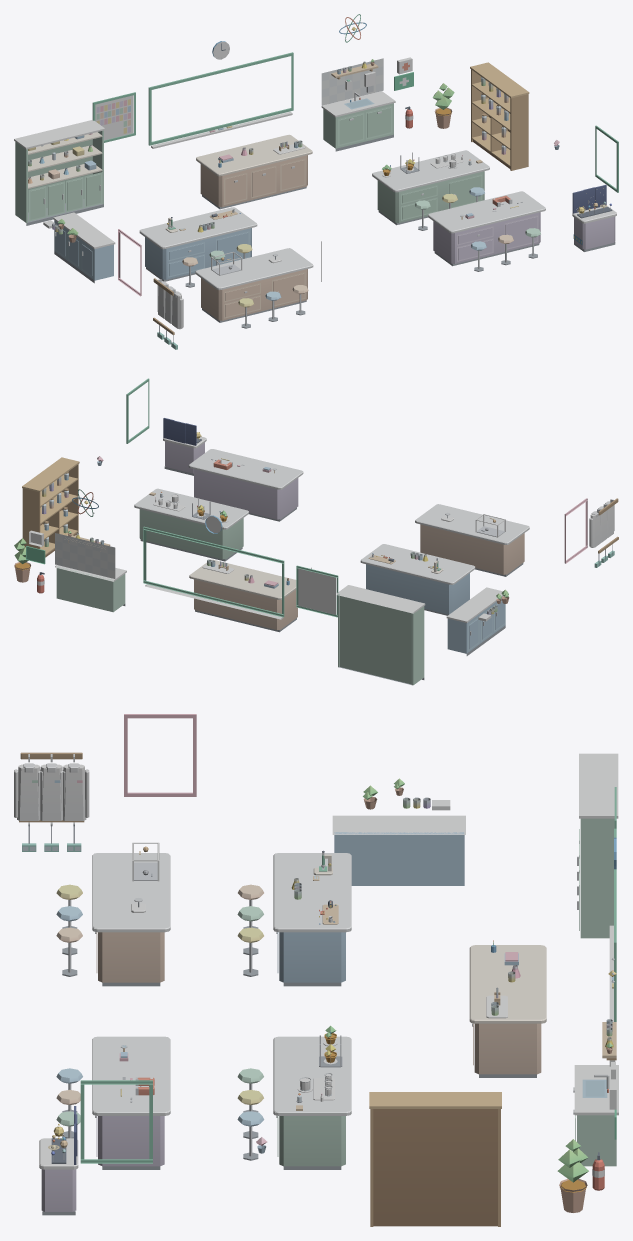
File: makmal_interior_props.glb
3 renders of one model, top to bottom at view 1: azimuth 30°, elevation 25°; view 2: azimuth 150°, elevation 25°; view 3: azimuth 270°, elevation 25°, orthographic. The views are drawn at different scales.
Parts seen in each view (by area): view 1: kabinet_radas_1, meja_makmal_4, meja_makmal_3, meja_guru, meja_makmal_1, meja_makmal_2, rak_balang, sinki_makmal, lalu_bingkai, kabinet_rendah, model_suria, lalu_ubin_sinki (+4 smaller); view 2: kabinet_radas_1, meja_makmal_4, meja_makmal_3, meja_guru, meja_makmal_1, meja_makmal_2, rak_balang, kabinet_rendah, lalu_bingkai, sinki_makmal, lalu_ubin_sinki, lalu_carta_berkala (+4 smaller); view 3: rak_balang, meja_makmal_3, meja_makmal_1, meja_makmal_4, meja_makmal_2, meja_guru, kabinet_rendah, kabinet_radas_1, rak_kot, sinki_makmal, lalu_bingkai, model_suria (+4 smaller).
Boxes of the visible parts, left/top/right/bottom form: kabinet_radas_1: left=14, top=120, right=105, bottom=225; meja_makmal_4: left=428, top=191, right=545, bottom=271; meja_makmal_3: left=195, top=248, right=313, bottom=328; meja_guru: left=196, top=134, right=312, bottom=209; meja_makmal_1: left=139, top=207, right=257, bottom=287; meja_makmal_2: left=372, top=150, right=489, bottom=230; rak_balang: left=470, top=62, right=529, bottom=170; sinki_makmal: left=321, top=91, right=395, bottom=151; lalu_bingkai: left=118, top=52, right=618, bottom=296; kabinet_rendah: left=53, top=212, right=115, bottom=283; model_suria: left=572, top=185, right=616, bottom=251; lalu_ubin_sinki: left=321, top=58, right=383, bottom=105; kabinet_radas_1: left=336, top=585, right=425, bottom=685; meja_makmal_4: left=188, top=449, right=303, bottom=521; meja_makmal_3: left=415, top=504, right=529, bottom=576; meja_guru: left=189, top=559, right=297, bottom=632; meja_makmal_1: left=360, top=544, right=475, bottom=615; meja_makmal_2: left=134, top=488, right=248, bottom=561; rak_balang: left=22, top=457, right=79, bottom=557; kabinet_rendah: left=446, top=587, right=505, bottom=655; lalu_bingkai: left=126, top=378, right=587, bottom=619; sinki_makmal: left=55, top=565, right=126, bottom=612; lalu_ubin_sinki: left=55, top=533, right=115, bottom=578; lalu_carta_berkala: left=296, top=565, right=338, bottom=617; rak_balang: left=369, top=1092, right=501, bottom=1226; meja_makmal_3: left=56, top=853, right=170, bottom=986; meja_makmal_1: left=237, top=853, right=351, bottom=986; meja_makmal_4: left=56, top=1036, right=170, bottom=1169; meja_makmal_2: left=237, top=1036, right=351, bottom=1169; meja_guru: left=469, top=940, right=546, bottom=1077; kabinet_rendah: left=332, top=815, right=465, bottom=885; kabinet_radas_1: left=577, top=753, right=618, bottom=938; rak_kot: left=14, top=752, right=89, bottom=851; sinki_makmal: left=573, top=1065, right=618, bottom=1166; lalu_bingkai: left=80, top=714, right=616, bottom=1163; model_suria: left=39, top=1106, right=78, bottom=1215.
Bounding box in the file's own units: 12 × 4.12 × 8.35.
